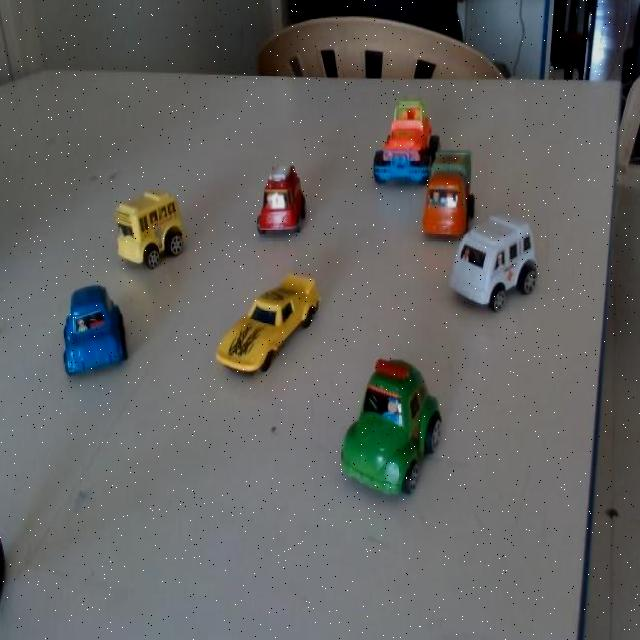car: (340, 364, 448, 492), (218, 281, 320, 374), (451, 208, 538, 317), (360, 91, 434, 185), (118, 190, 192, 274), (421, 140, 480, 244), (254, 158, 316, 248), (58, 290, 124, 374)
